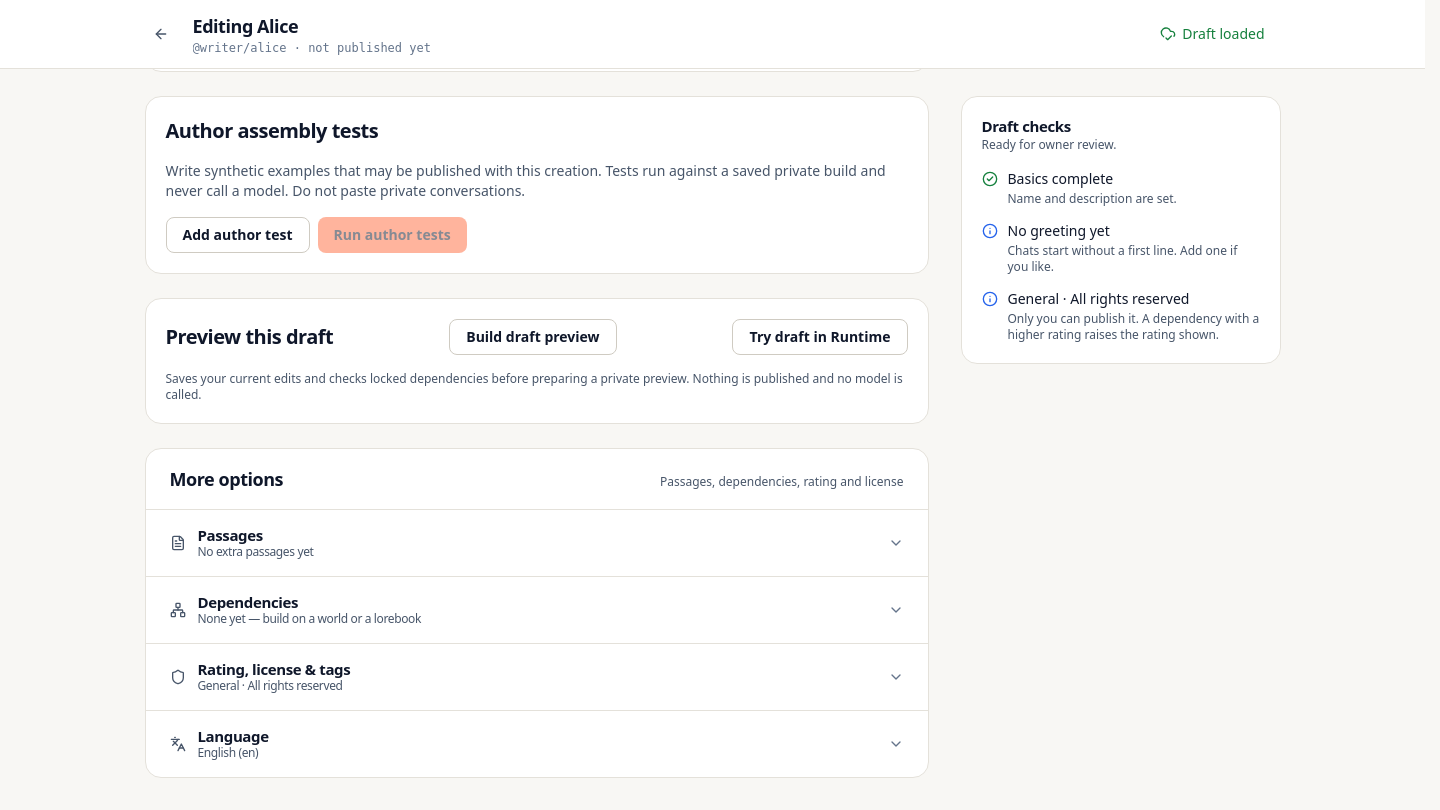
Test: Editor › does not offer contribution settings
(page scrolled)
Step 1. Click the button "Rating, license & tags" → {"x": 274, "y": 669}, box [146, 644, 928, 710]
(page scrolled)
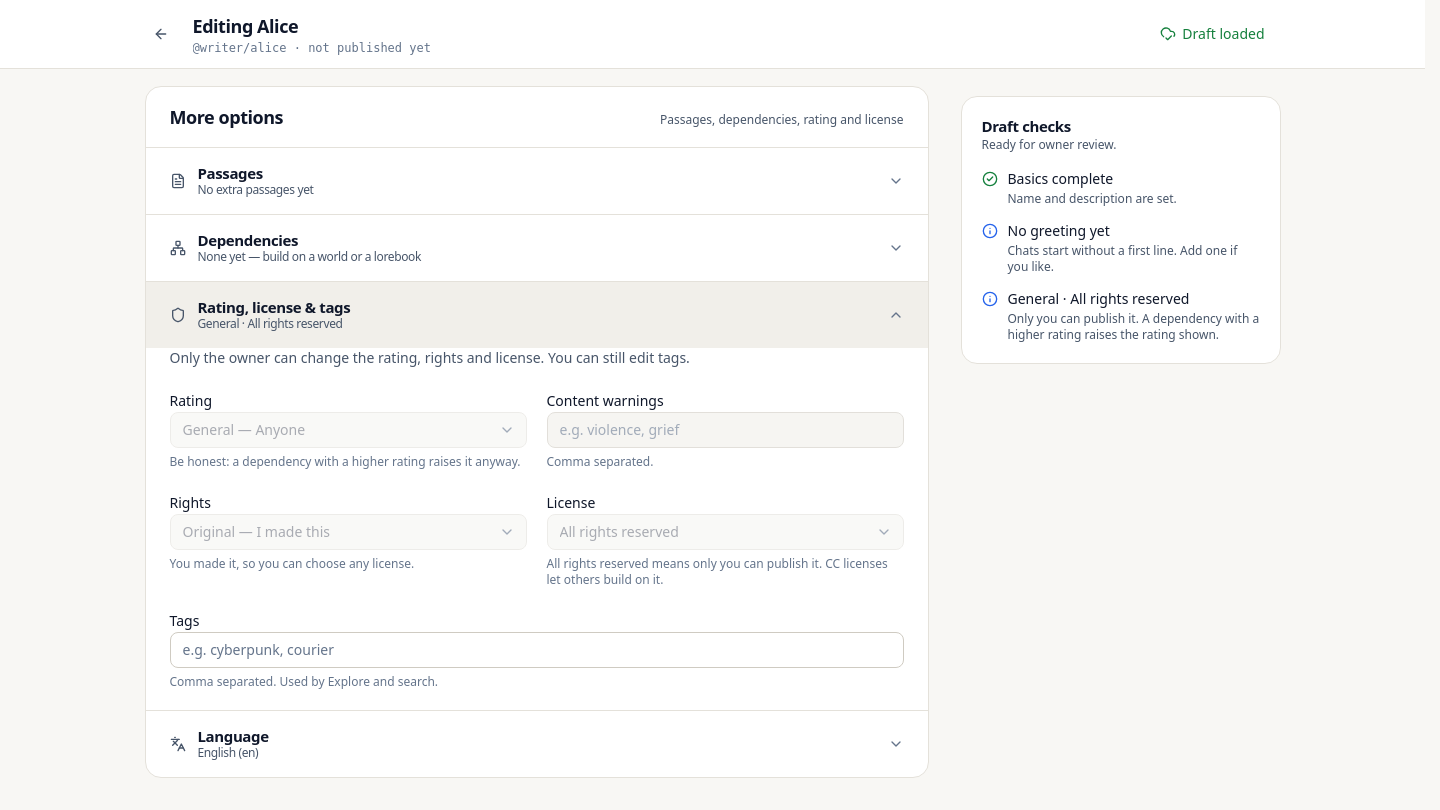
Result: the dropdown labelled "License" is shown at [546, 514, 904, 550]
